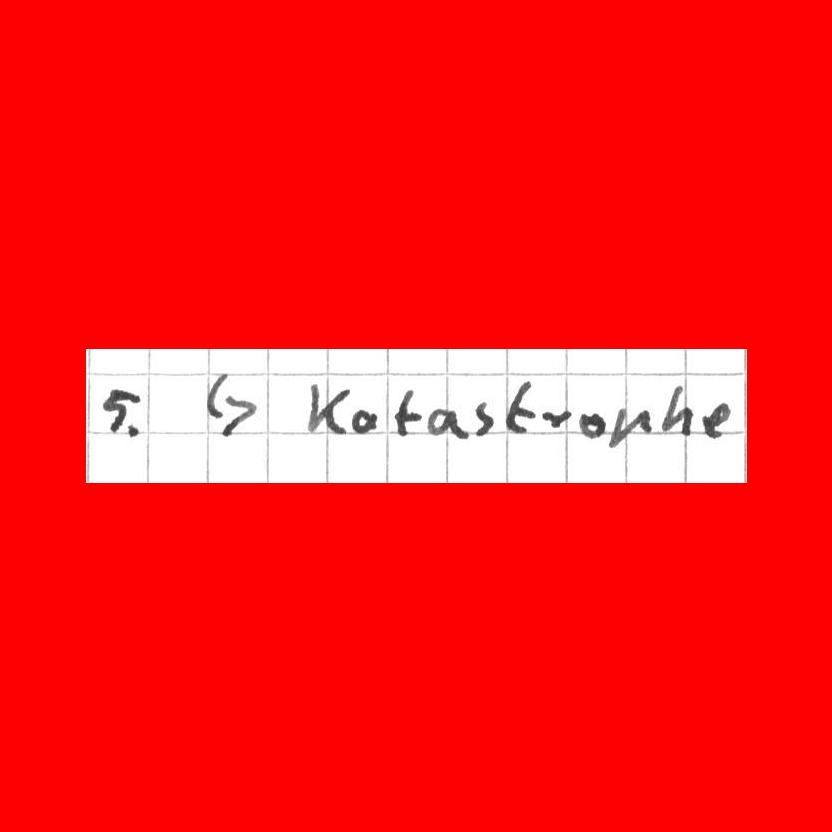Char: (208, 375, 258, 439), (306, 381, 348, 434), (608, 406, 653, 452), (102, 387, 141, 432), (424, 404, 471, 441), (661, 385, 694, 435), (503, 382, 535, 433), (392, 386, 422, 438), (701, 398, 729, 441), (578, 407, 605, 441), (471, 399, 494, 438), (350, 408, 379, 433), (542, 407, 571, 429), (124, 423, 144, 441)
